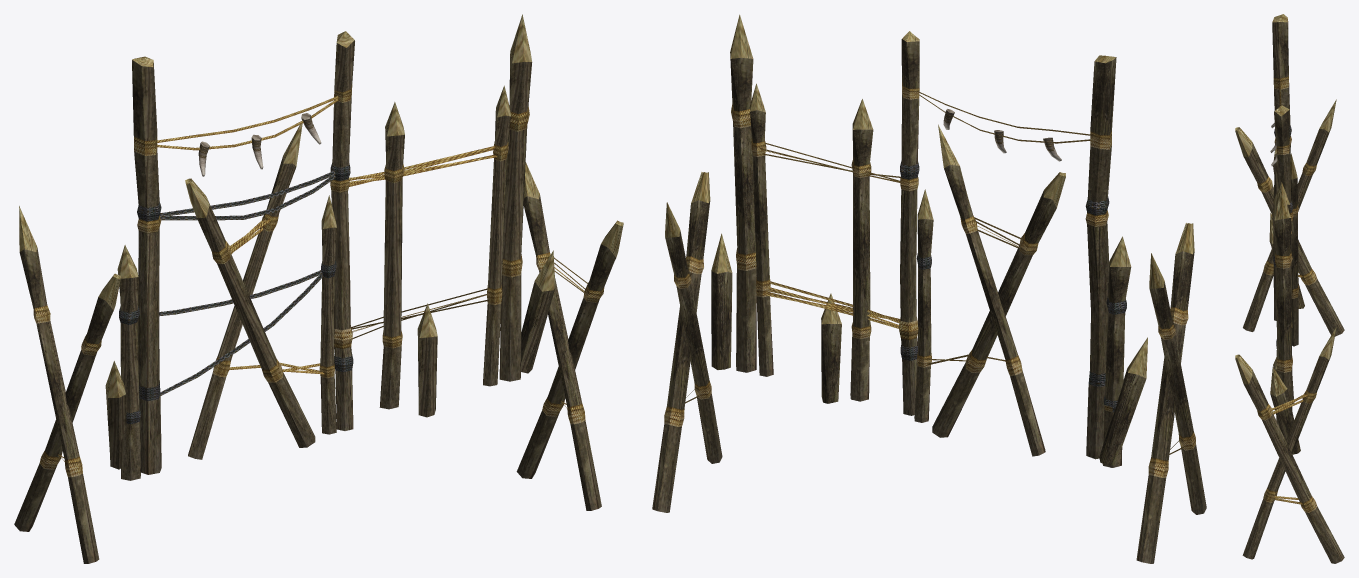
The model's file is camp_manticore_gate00.fbx.
The picture shows the model from 3 angles, left to right: view 1: azimuth 30°, elevation 25°; view 2: azimuth 150°, elevation 25°; view 3: azimuth 270°, elevation 25°; orthographic projection. The views are drawn at different scales.
Parts seen in each view (by area): view 1: camp_manticore_gate00; view 2: camp_manticore_gate00; view 3: camp_manticore_gate00.
Part boxes in pixels (x1,y1,x2,y2): camp_manticore_gate00: (14, 14, 623, 563); camp_manticore_gate00: (652, 14, 1206, 563); camp_manticore_gate00: (1235, 14, 1344, 563).
Bounding box in the file's own units: 19.67 × 18.99 × 4.75.
